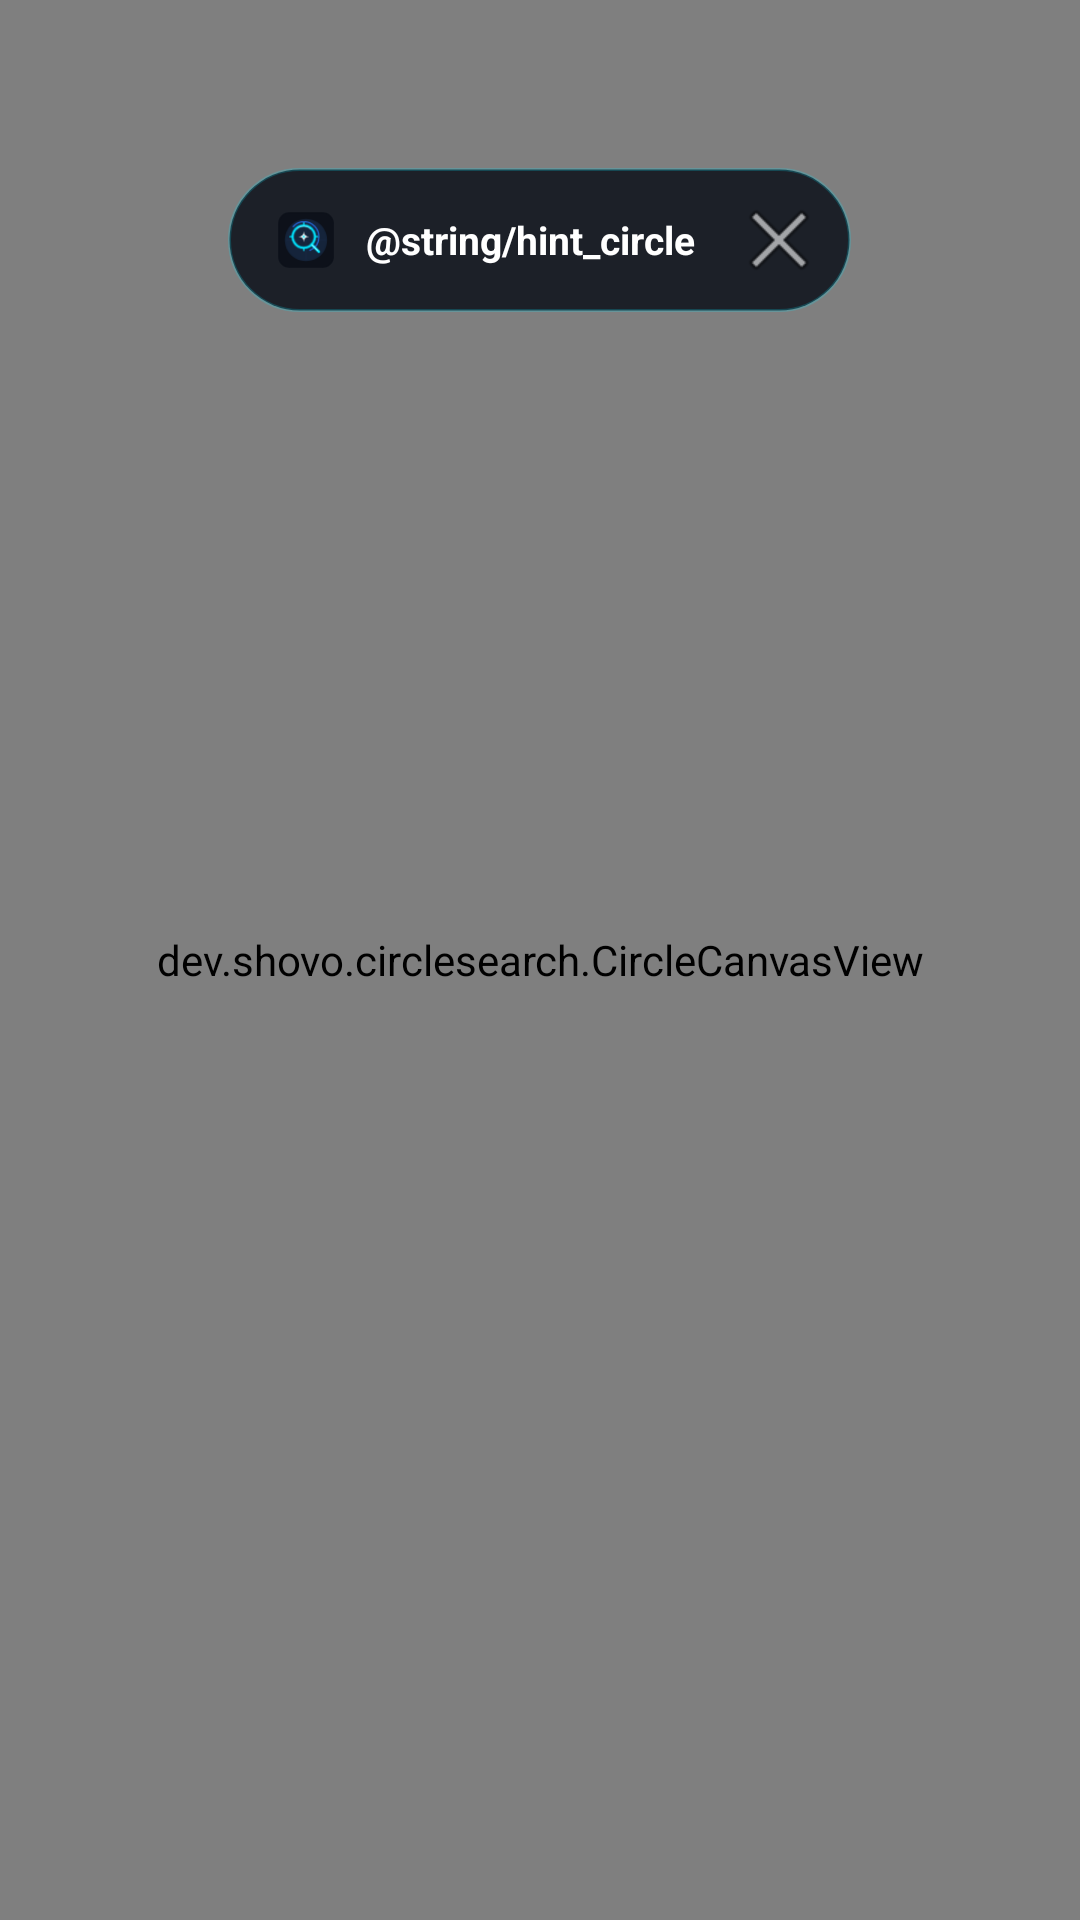

Point at icon controls on the screen. Image size 1080 x 1920, points as point (x, y).
Close: point (779, 240)
shovo search: point (305, 237)
